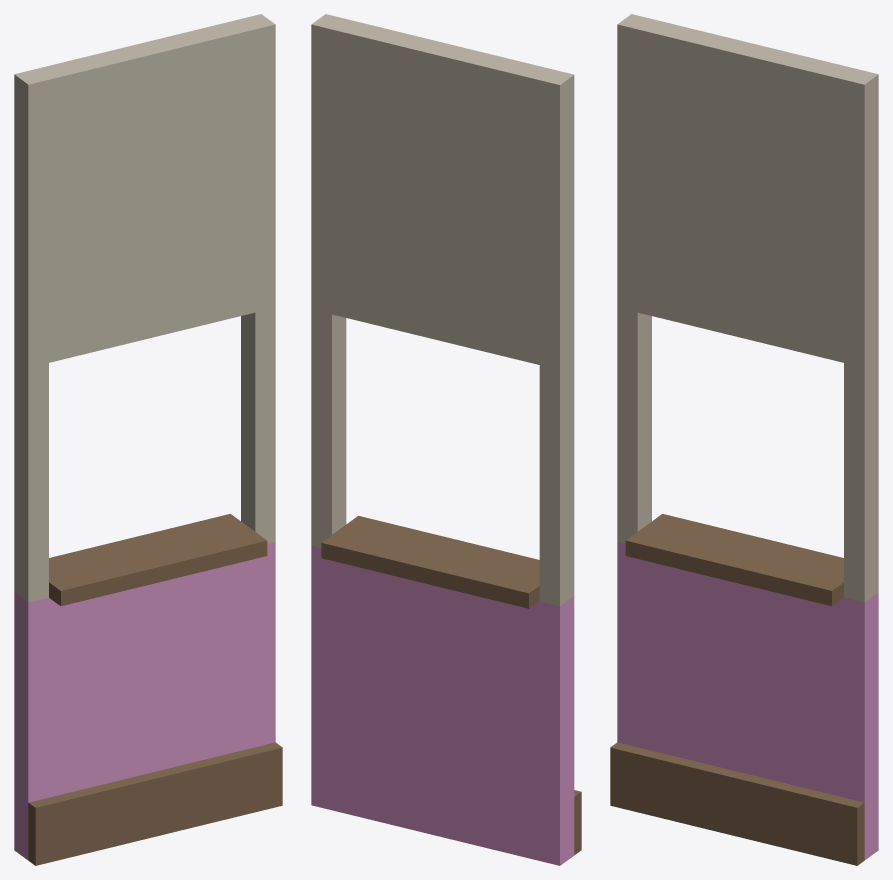
File: Mesh_WallBaseboard2Colors_H2.fbx
The picture shows the model from 3 angles, left to right: view 1: azimuth 30°, elevation 25°; view 2: azimuth 150°, elevation 25°; view 3: azimuth 330°, elevation 25°; orthographic projection.
Visible parts, largest first — view 1: Mesh_WallBaseboard2Colors_H2; view 2: Mesh_WallBaseboard2Colors_H2; view 3: Mesh_WallBaseboard2Colors_H2.
Part boxes in pixels (x1,y1,x2,y2): Mesh_WallBaseboard2Colors_H2: (14, 14, 282, 865); Mesh_WallBaseboard2Colors_H2: (311, 14, 581, 865); Mesh_WallBaseboard2Colors_H2: (610, 14, 878, 865).
Bounding box in the file's own units: 1 × 3 × 0.2574.
